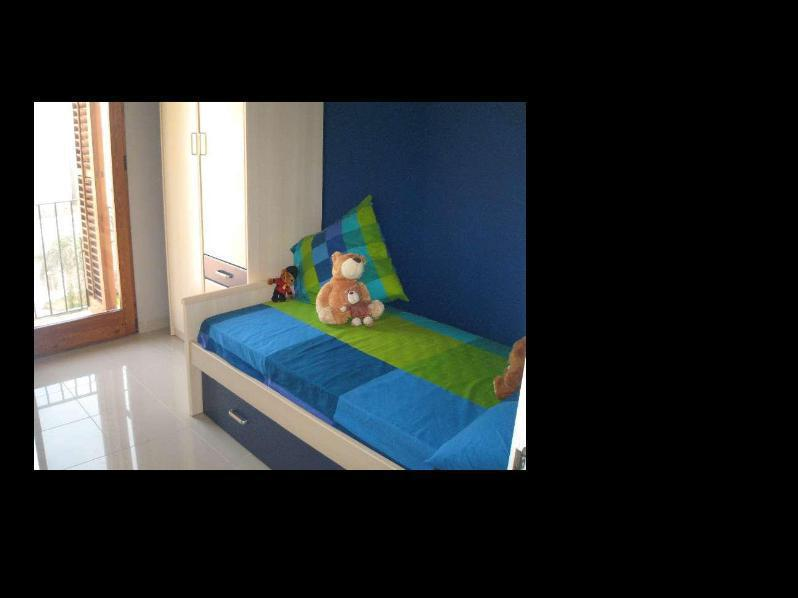Armario: (160, 104, 247, 331)
Puerta: (37, 104, 136, 335)
